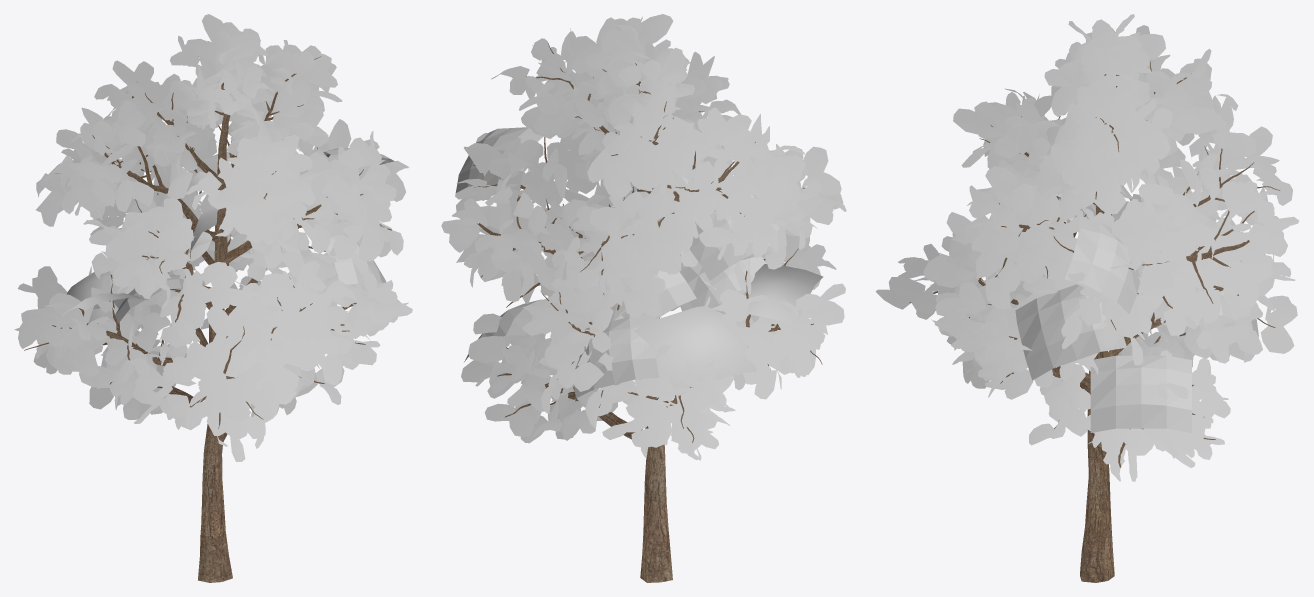
File: D_Tree_001.fbx
The picture shows the model from 3 angles, left to right: view 1: azimuth 30°, elevation 25°; view 2: azimuth 150°, elevation 25°; view 3: azimuth 270°, elevation 25°; orthographic projection. The views are drawn at different scales.
Visible parts, largest first — view 1: D_Tree_001_leaf, D_Tree_001; view 2: D_Tree_001_leaf, D_Tree_001; view 3: D_Tree_001_leaf, D_Tree_001.
Boxes of the visible parts, bbox=[...] form: D_Tree_001_leaf: bbox=[14, 14, 412, 461]; D_Tree_001: bbox=[24, 56, 391, 582]; D_Tree_001_leaf: bbox=[441, 14, 846, 460]; D_Tree_001: bbox=[473, 40, 822, 582]; D_Tree_001_leaf: bbox=[875, 14, 1299, 481]; D_Tree_001: bbox=[909, 61, 1280, 582].
Bounding box in the file's own units: 5.35 × 7.68 × 5.21.
